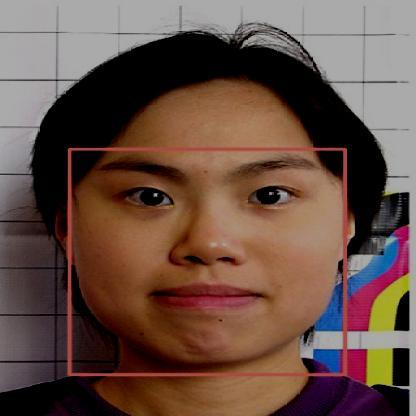without_mask: (69, 149, 344, 374)
